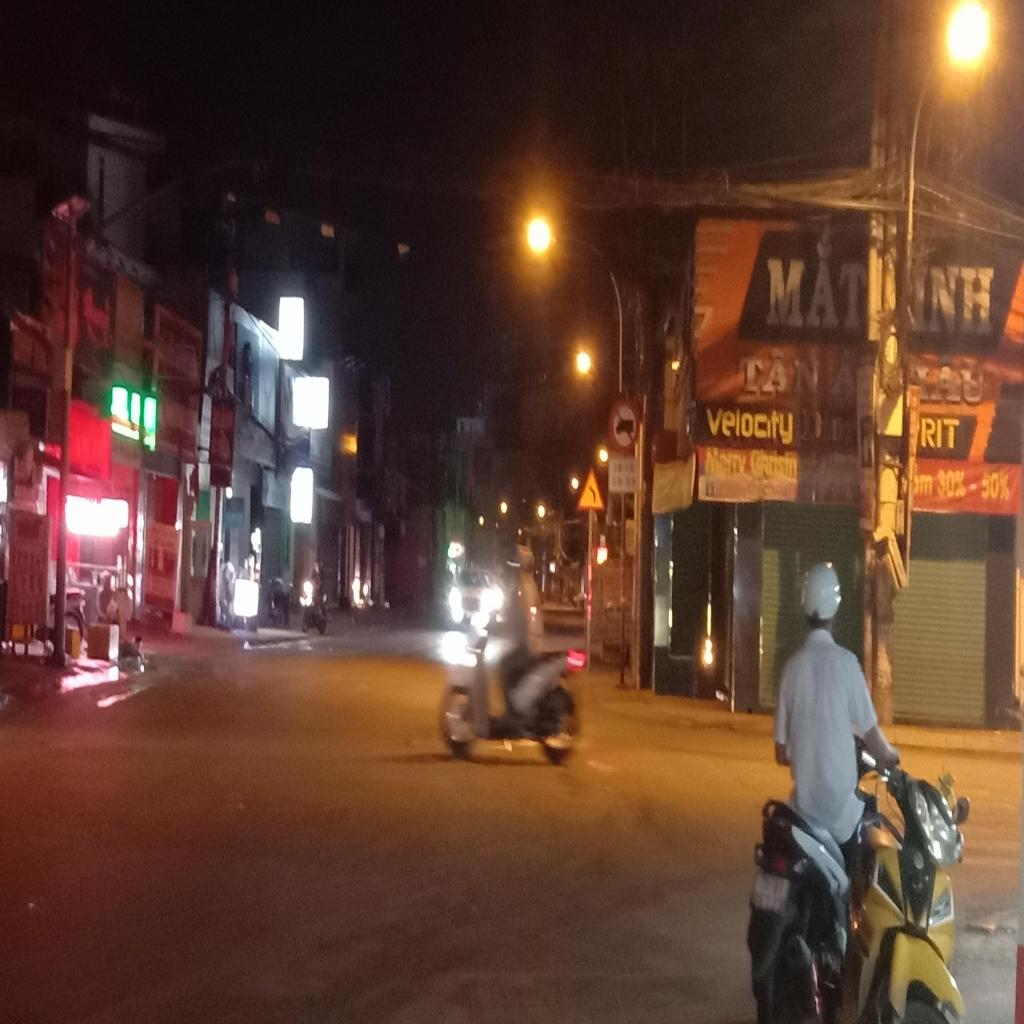cam_o_to_tai: (608, 396, 641, 456)
cho_ngoat_nguy_hiem_ben_trai: (577, 463, 605, 510)
khac: (608, 457, 640, 490)
